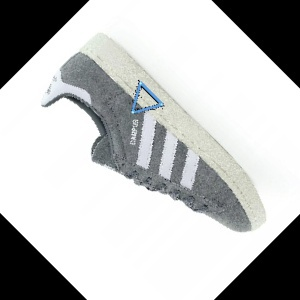triangle: (128, 78, 166, 118)
